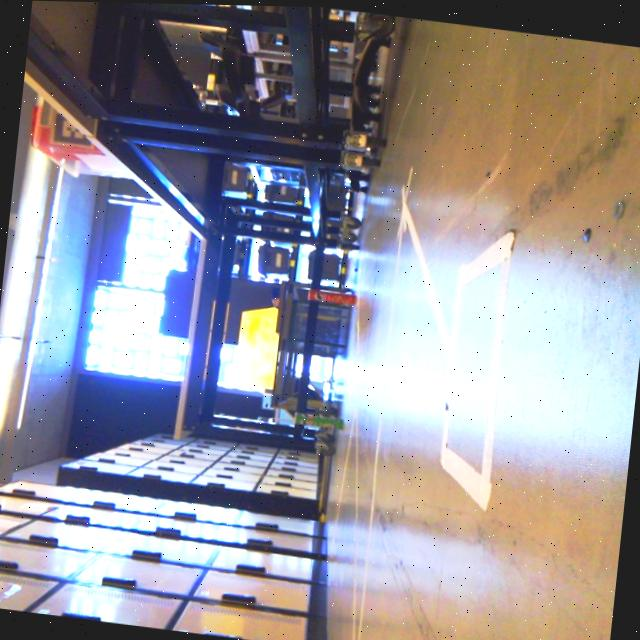greenpringles: (278, 395, 348, 434)
redpringles: (295, 270, 366, 326)
